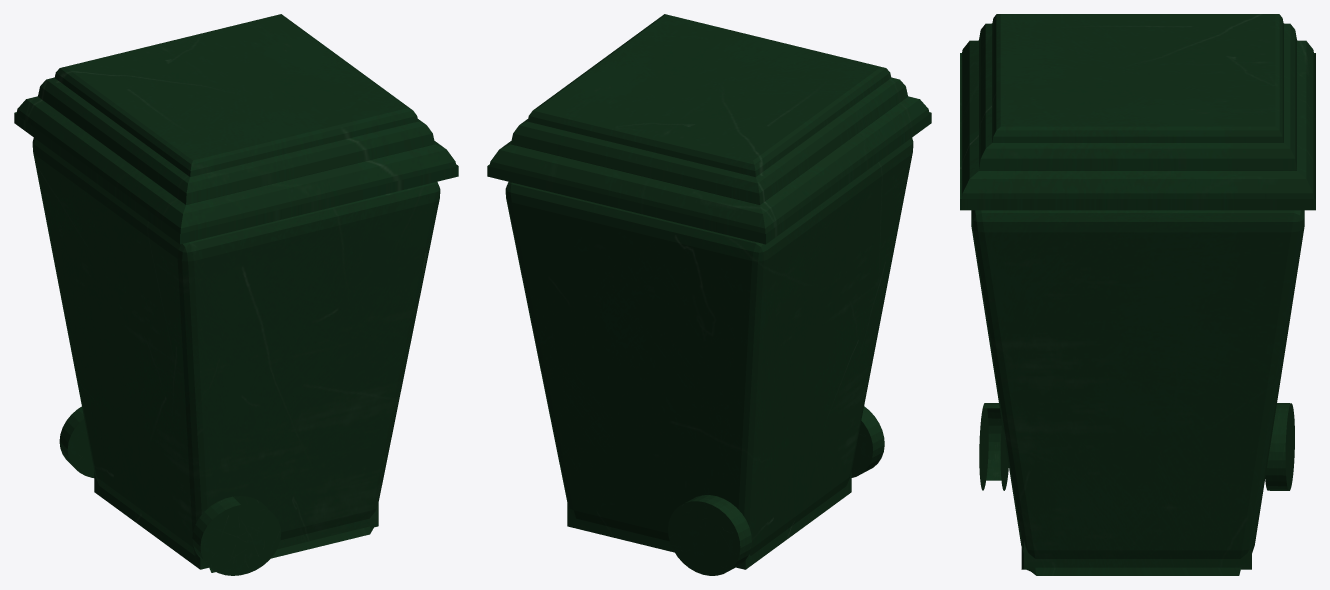
Rendered from poubelle.fbx.
The picture shows the model from 3 angles, left to right: view 1: azimuth 30°, elevation 25°; view 2: azimuth 150°, elevation 25°; view 3: azimuth 270°, elevation 25°; orthographic projection. The views are drawn at different scales.
Parts seen in each view (by area): view 1: Cube; view 2: Cube; view 3: Cube.
Boxes of the visible parts, x1,y1,x2,y2 form: Cube: [14, 14, 458, 575]; Cube: [487, 14, 931, 575]; Cube: [960, 14, 1315, 575].
Size of the model in its own units: 393 by 575 by 405.
Materials: 1 (1 with a texture image).
